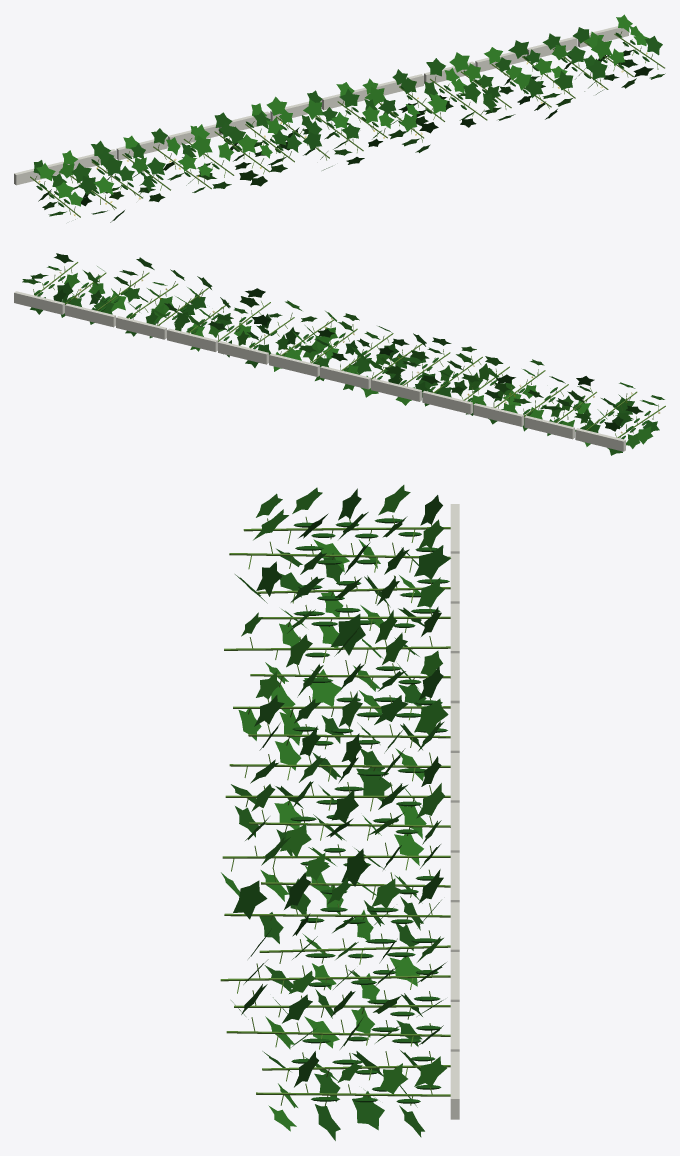
Rendered from row27.obj.
3 renders of one model, top to bottom at view 1: azimuth 30°, elevation 25°; view 2: azimuth 150°, elevation 25°; view 3: azimuth 270°, elevation 25°, orthographic. The views are drawn at different scales.
Parts seen in each view (by area): view 1: row27; view 2: row27; view 3: row27.
Part boxes in pixels (x1,y1,x2,y2): row27: (14, 14, 665, 222); row27: (14, 253, 665, 455); row27: (220, 485, 459, 1140).
Size of the model in its own units: 12.45 by 0.9112 by 2.12.
